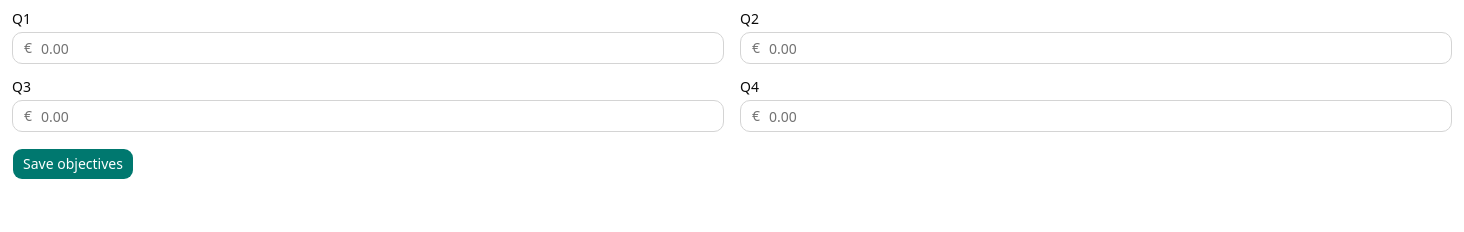
it: ObjectivesForm › shows the save error message when the mutation rejects
Click the button "Save objectives": point(73, 164) x1=12 y1=148 x2=134 y2=180
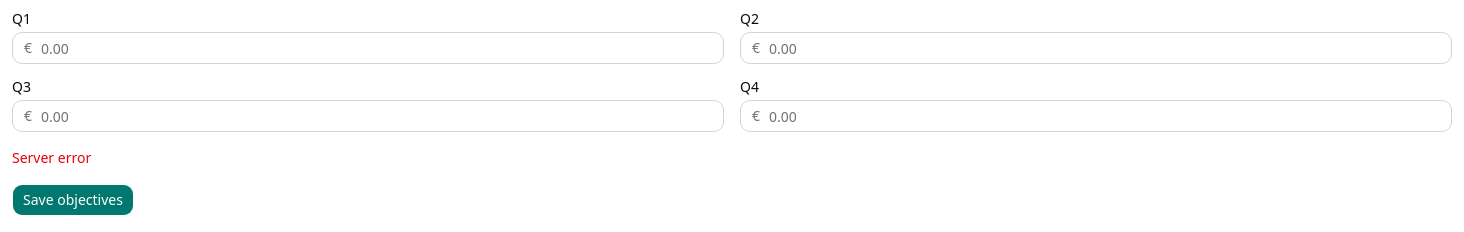
Check: the text "Server error" is shown, box x1=12 y1=148 x2=91 y2=167
